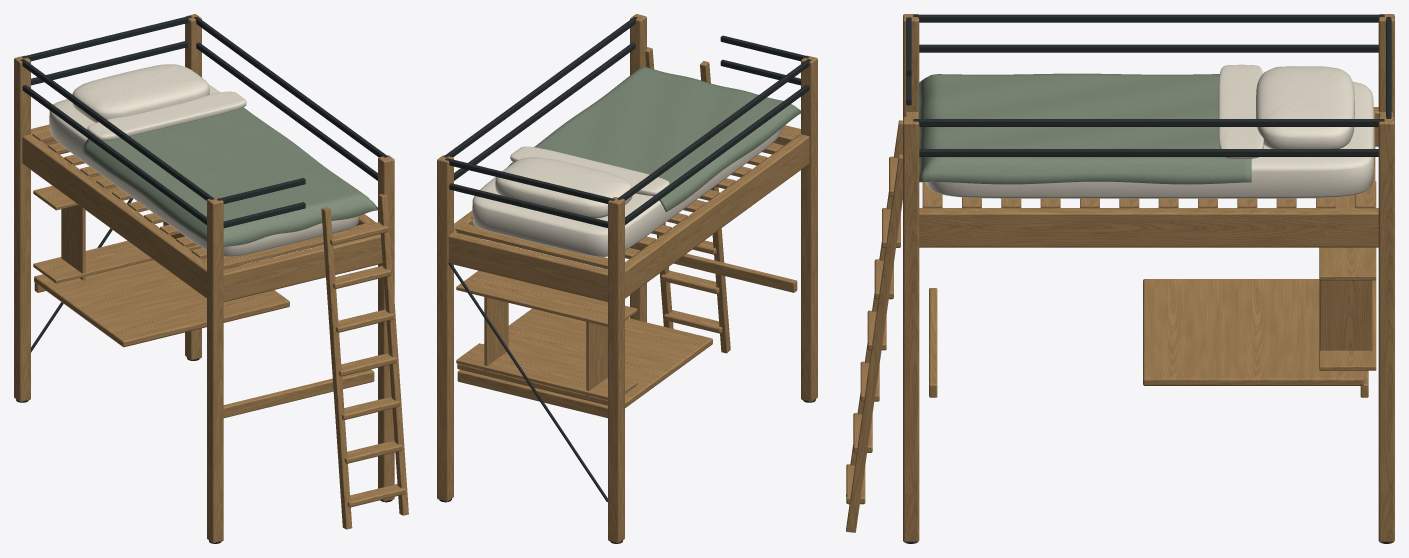
The model's file is studio_loft_study_bed.glb.
The picture shows the model from 3 angles, left to right: view 1: azimuth 30°, elevation 25°; view 2: azimuth 150°, elevation 25°; view 3: azimuth 270°, elevation 25°; orthographic projection. The views are drawn at different scales.
Visible parts, largest first — view 1: Bedding | softly draped quilt, Desk | integrated study surface, Loft | deep side bearer, Loft | structural post, Loft | structural post.001, Bedding | sewn pillow, Loft | end bearer, Mattress | upholstered ticking, Loft | structural post.002, Loft ladder | stile, Bedding | folded return, Loft ladder | stile.001 (+21 smaller); view 2: Bedding | softly draped quilt, Desk | integrated study surface, Mattress | upholstered ticking, Loft | deep side bearer, Loft | structural post.001, Loft | structural post.003, Loft | structural post, Loft | end bearer.001, Bedding | sewn pillow, Desk | organizer shelf.001, Desk | organizer shelf, Desk | oak cantilever bracket.001 (+19 smaller); view 3: Bedding | softly draped quilt, Desk | integrated study surface, Loft | deep side bearer.001, Mattress | upholstered ticking, Loft | structural post.002, Loft | structural post.003, Bedding | sewn pillow, Guard | long steel tube.001, Guard | long steel tube, Loft ladder | stile.001, Desk | organizer divider.001, Guard | long steel tube.003 (+8 smaller).
Part boxes in pixels (x1,y1,x2,y2): Bedding | softly draped quilt: (81,107,377,247); Desk | integrated study surface: (34,250,289,347); Loft | deep side bearer: (22,134,206,298); Loft | structural post: (207,197,223,543); Loft | structural post.001: (14,55,30,401); Bedding | sewn pillow: (72,64,209,122); Loft | end bearer: (223,234,382,301); Mattress | upholstered ticking: (49,85,358,256); Loft | structural post.002: (378,155,394,501); Loft ladder | stile: (321,207,352,529); Bedding | folded return: (87,91,246,140); Loft ladder | stile.001: (378,194,408,515); Bedding | softly draped quilt: (508,66,801,211); Desk | integrated study surface: (457,308,712,407); Mattress | upholstered ticking: (472,128,781,256); Loft | deep side bearer: (625,134,809,298); Loft | structural post.001: (608,197,624,543); Loft | structural post.003: (437,155,453,501); Loft | structural post: (801,55,817,401); Loft | end bearer.001: (448,232,607,301); Bedding | sewn pillow: (495,157,632,218); Desk | organizer shelf.001: (456,270,637,326); Desk | organizer shelf: (456,343,637,400); Desk | oak cantilever bracket.001: (457,369,607,418); Bedding | softly draped quilt: (918,73,1251,184); Desk | integrated study surface: (1143,279,1364,385); Loft | deep side bearer.001: (919,208,1378,247); Mattress | upholstered ticking: (925,81,1374,198); Loft | structural post.002: (903,117,919,542); Loft | structural post.003: (1378,117,1394,542); Bedding | sewn pillow: (1256,66,1354,148); Guard | long steel tube.001: (913,14,1384,22); Guard | long steel tube: (919,44,1378,52); Loft ladder | stile.001: (846,154,902,532); Desk | organizer divider.001: (1320,280,1372,350); Guard | long steel tube.003: (913,119,1384,126).
Bounding box in the file's own units: 1.14 × 2.04 × 2.41.
5 materials, 3 textured.
